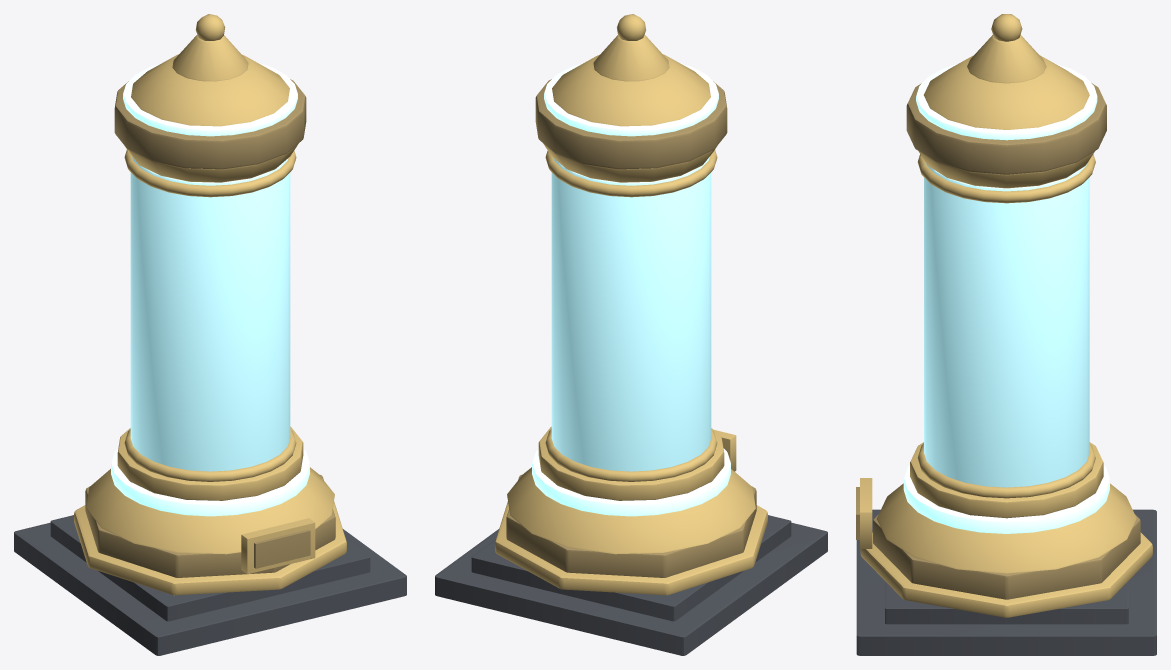
Rendered from hp_room_museum_specimen_jar_tall_01.glb.
3 renders of one model, left to right at view 1: azimuth 30°, elevation 25°; view 2: azimuth 150°, elevation 25°; view 3: azimuth 270°, elevation 25°, orthographic. The views are drawn at different scales.
Visible parts, largest first — view 1: room_museum_specimen_jar_tall_01; view 2: room_museum_specimen_jar_tall_01; view 3: room_museum_specimen_jar_tall_01.
Boxes of the visible parts, x1,y1,x2,y2 form: room_museum_specimen_jar_tall_01: (14, 14, 406, 655); room_museum_specimen_jar_tall_01: (435, 14, 827, 655); room_museum_specimen_jar_tall_01: (856, 14, 1156, 655).
Size of the model in its own units: 0.96 by 2.04 by 0.962.
